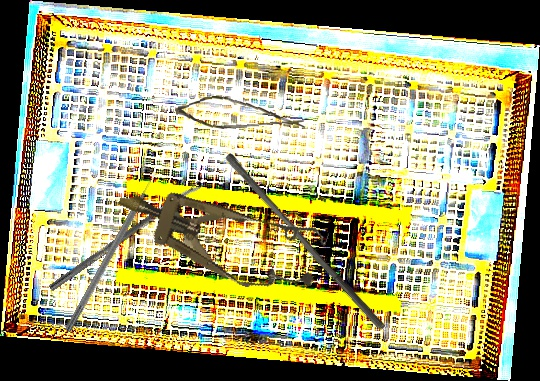Hook Surgical: (64, 171, 161, 334)
Micro Scissor: (174, 88, 308, 139)
Pusher: (217, 151, 394, 332)
Speculum: (106, 162, 331, 307)
Surgical Spoon: (48, 179, 205, 293)
